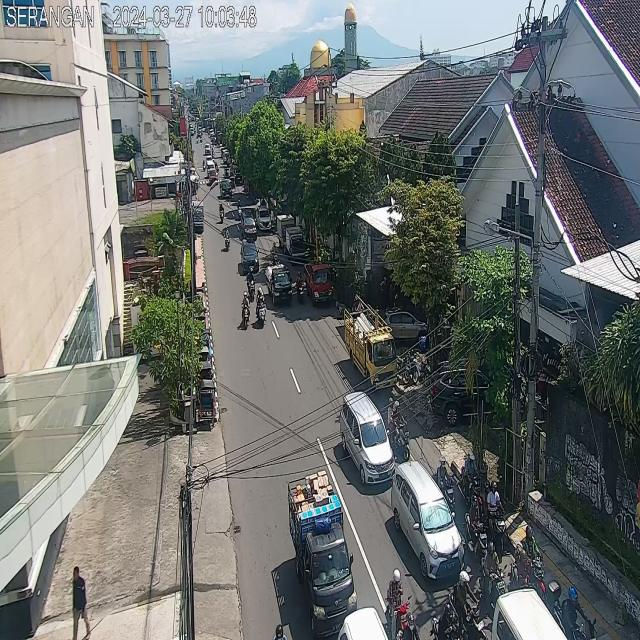car: (393, 460, 465, 579), (341, 391, 396, 482), (494, 586, 567, 640), (338, 607, 386, 640), (240, 239, 259, 273), (241, 210, 257, 240), (256, 205, 272, 232), (209, 169, 218, 186), (205, 143, 211, 155)
motorcycle: (548, 572, 596, 640), (446, 572, 488, 640), (522, 524, 548, 606), (384, 568, 411, 640), (384, 394, 411, 459), (430, 455, 457, 518), (480, 543, 506, 606), (464, 497, 488, 561), (486, 481, 506, 554), (459, 449, 481, 504), (508, 552, 534, 598), (432, 602, 457, 640), (245, 268, 258, 303), (256, 286, 267, 327), (242, 291, 250, 328), (296, 271, 304, 302), (223, 225, 232, 251), (271, 241, 278, 265), (218, 201, 225, 223), (237, 199, 242, 221), (215, 161, 219, 174), (202, 159, 206, 172), (211, 147, 215, 159), (199, 134, 203, 144), (196, 134, 198, 144)
truck: (287, 474, 359, 638), (345, 299, 397, 389), (304, 258, 333, 308), (264, 264, 292, 306), (277, 215, 295, 255), (287, 227, 305, 264), (220, 179, 232, 200)
